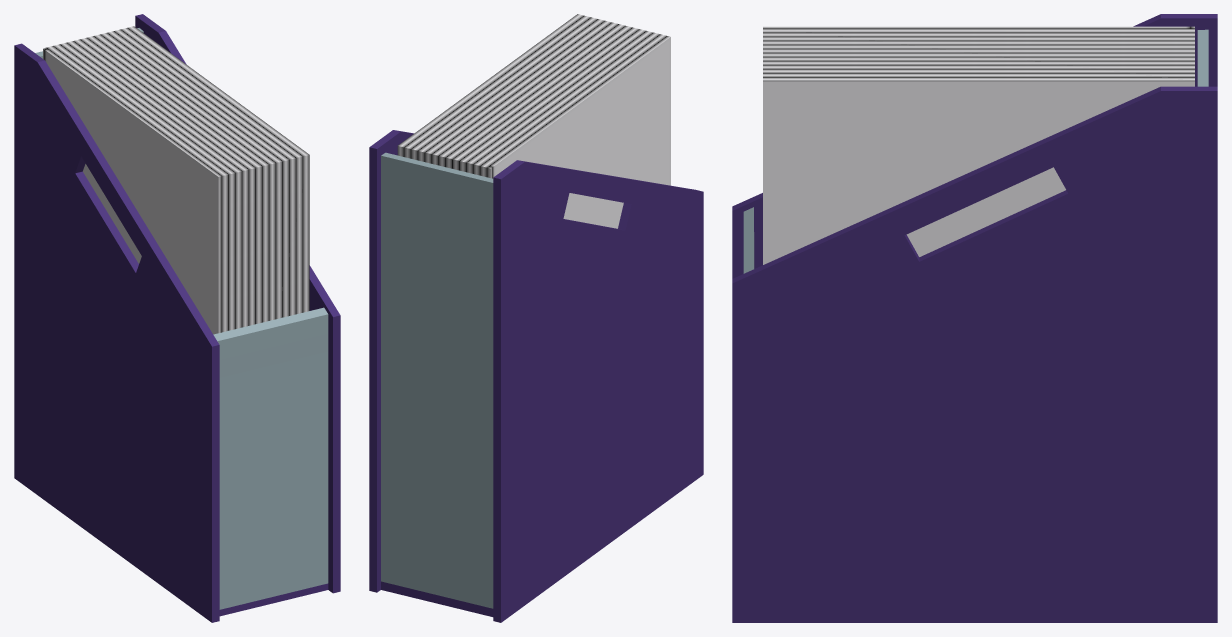
Rendered from RAccoglietore.fbx.
3 renders of one model, left to right at view 1: azimuth 30°, elevation 25°; view 2: azimuth 150°, elevation 25°; view 3: azimuth 270°, elevation 25°, orthographic. The views are drawn at different scales.
Parts seen in each view (by area): view 1: polySurface9; view 2: polySurface9; view 3: polySurface9.
Part boxes in pixels (x1=…): polySurface9: x1=14, y1=14, x2=340, y2=622; polySurface9: x1=369, y1=14, x2=703, y2=622; polySurface9: x1=732, y1=14, x2=1217, y2=622.
Size of the model in its own units: 1.63 by 5.25 by 4.34.
Materials: 1 (1 with a texture image).
